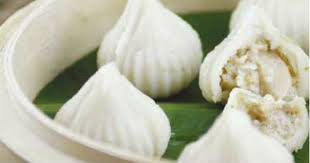modak: (53, 63, 183, 163), (93, 1, 201, 90)
